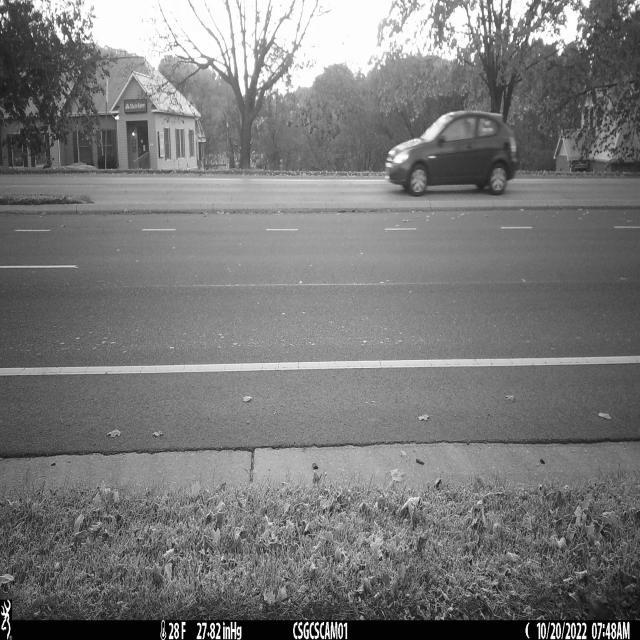Hatchback: (386, 111, 519, 197)
